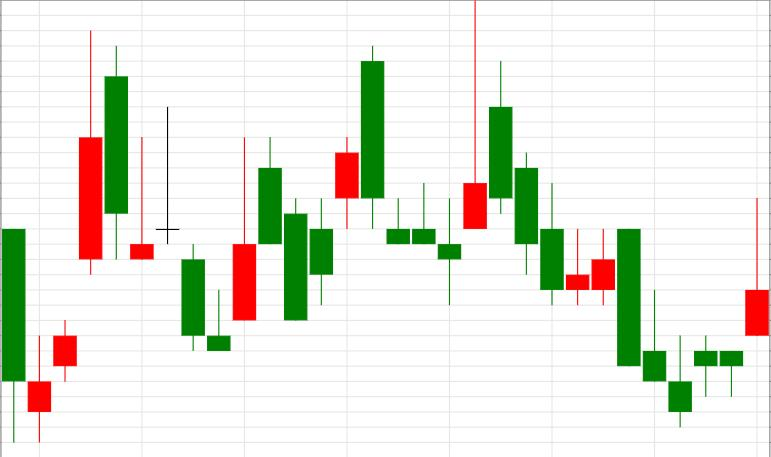morning_star_rise: (104, 46, 256, 350)
